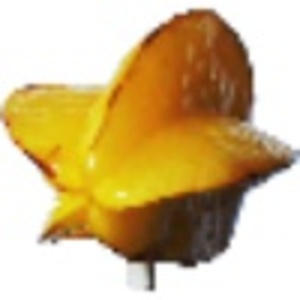carambola: (1, 7, 300, 288)
